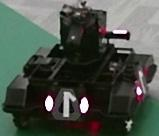armor_1: (44, 95, 89, 114)
front_1: (53, 88, 80, 121)
